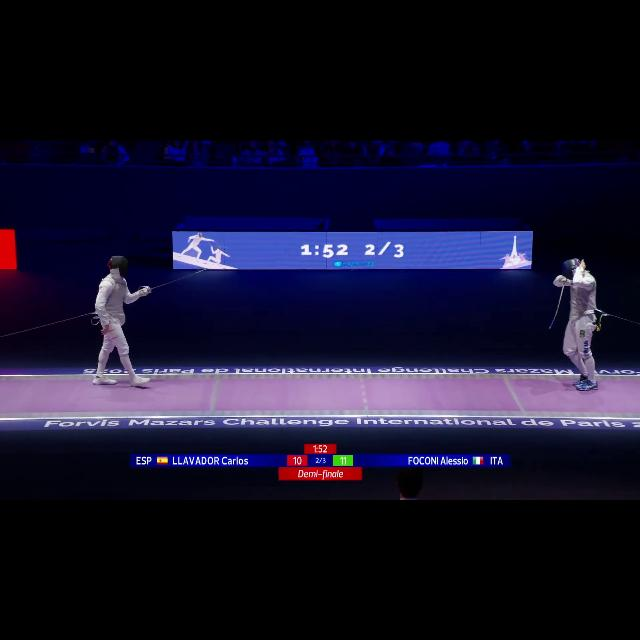blade: (142, 260, 220, 294), (545, 276, 571, 334)
